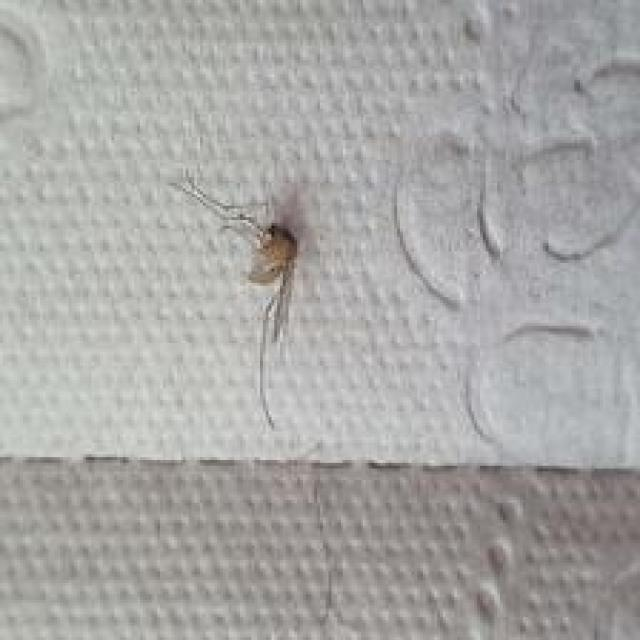Culex: (165, 167, 308, 430)
